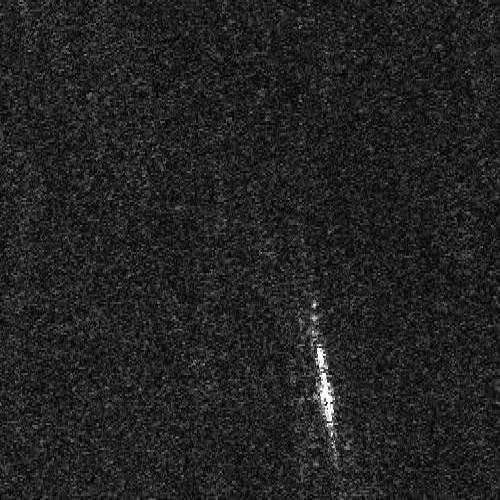ship: (314, 340, 336, 440)
